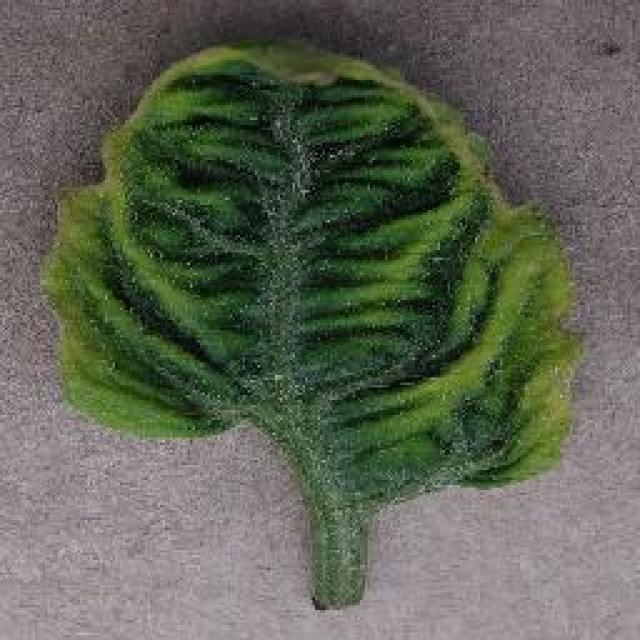Tomato yellow virus leaf: (46, 35, 578, 512)
